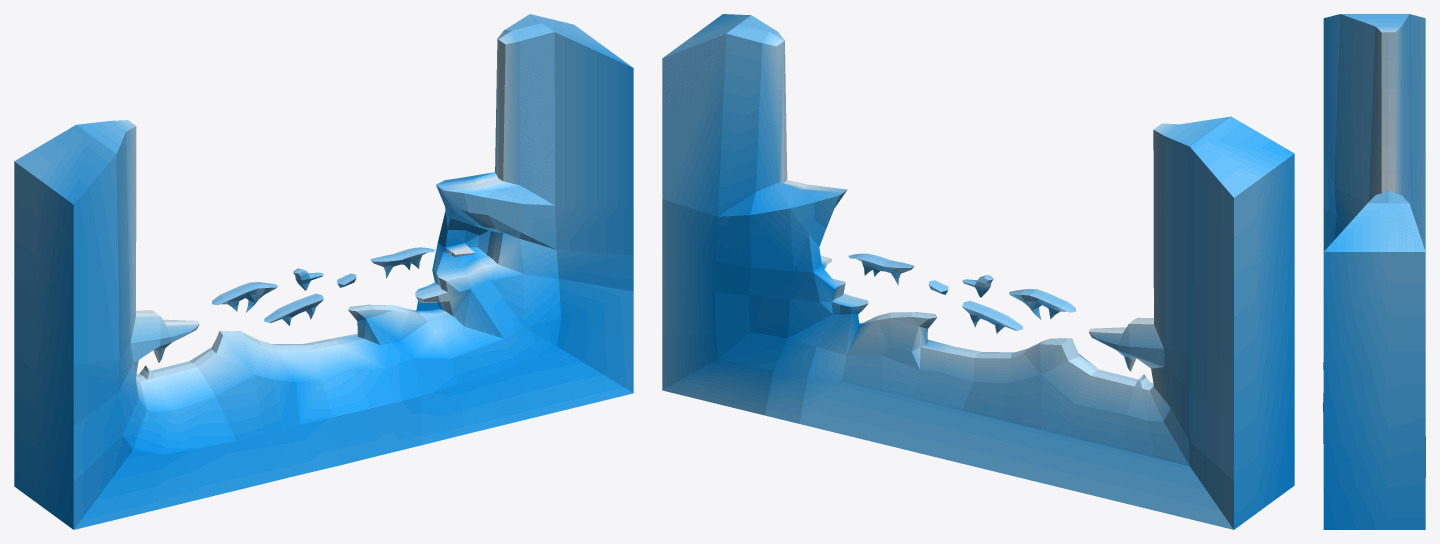
The model's file is Level1.fbx.
The picture shows the model from 3 angles, left to right: view 1: azimuth 30°, elevation 25°; view 2: azimuth 150°, elevation 25°; view 3: azimuth 270°, elevation 25°; orthographic projection. The views are drawn at different scales.
Parts seen in each view (by area): view 1: Level1; view 2: Level1; view 3: Level1.
Boxes of the visible parts, <box> form: Level1: <box>14,14,633,529</box>; Level1: <box>662,14,1294,529</box>; Level1: <box>1323,14,1425,529</box>.
Size of the model in its own units: 179 by 109 by 33.37.
